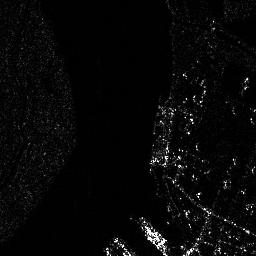l: (133, 217, 171, 252)
